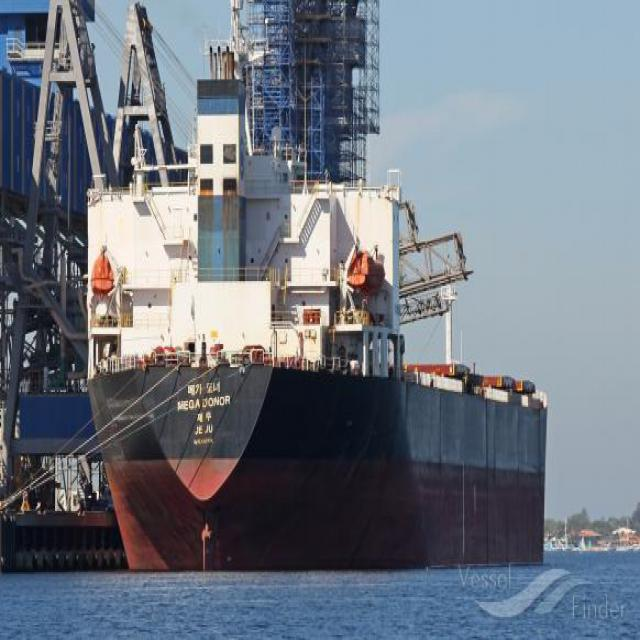OCR: (174, 378, 235, 454)
